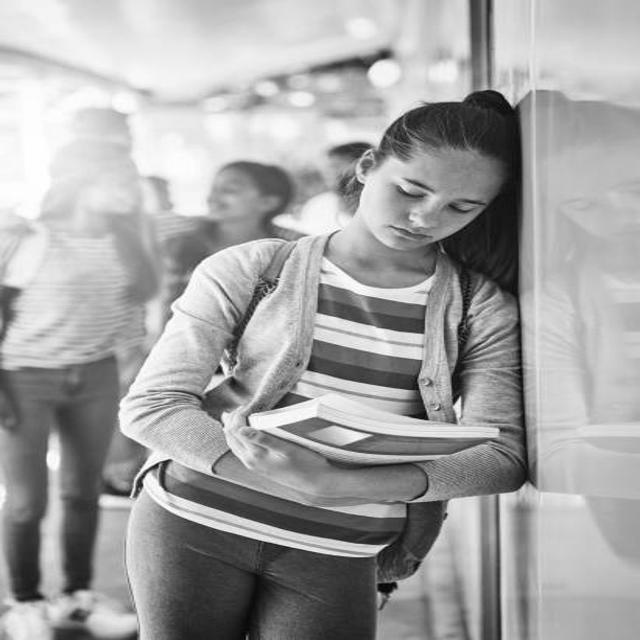Sadness: (362, 143, 503, 255)
